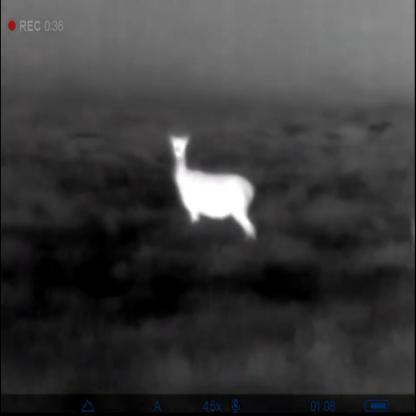rehkitze: (168, 128, 256, 239)
